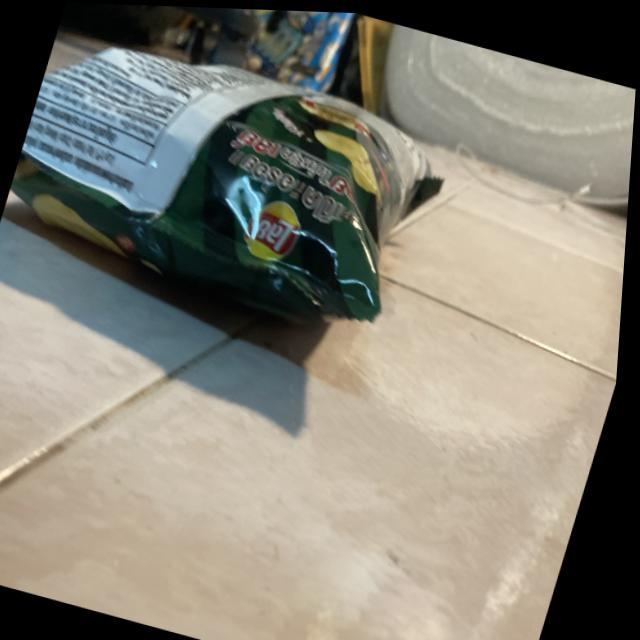Laygreen: (0, 5, 466, 349)
